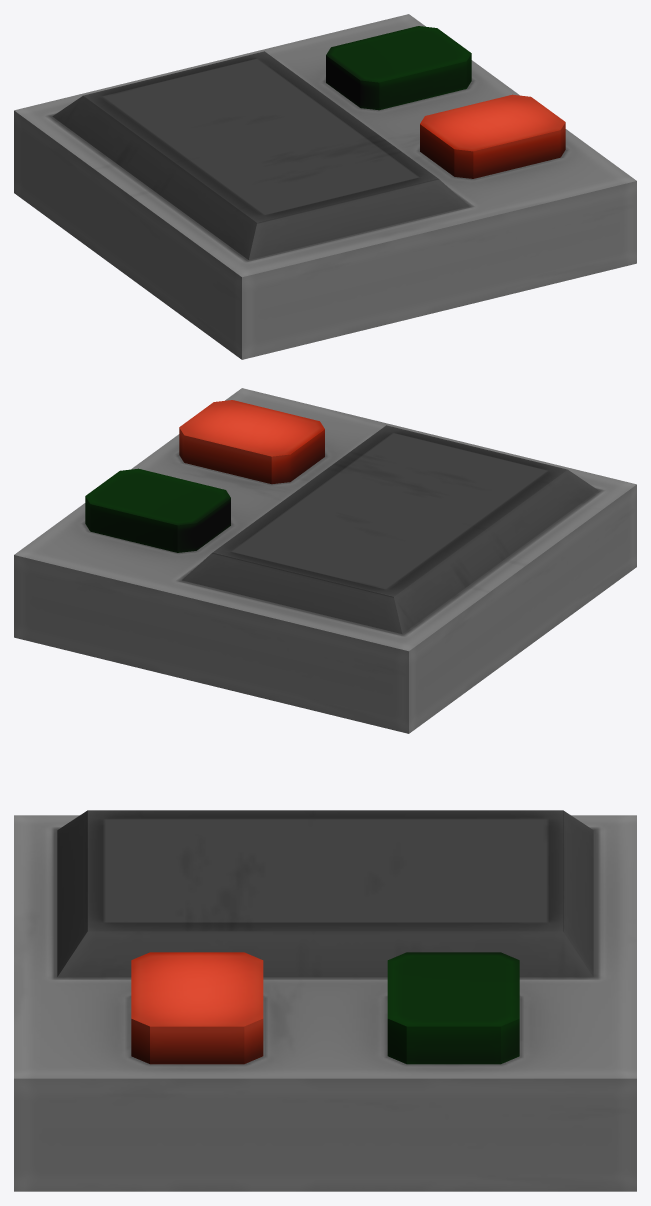
File: obj_interactive_switch_off.fbx
3 renders of one model, top to bottom at view 1: azimuth 30°, elevation 25°; view 2: azimuth 150°, elevation 25°; view 3: azimuth 270°, elevation 25°, orthographic. The views are drawn at different scales.
Parts seen in each view (by area): view 1: obj_interactive_switch_off_lod0; view 2: obj_interactive_switch_off_lod0; view 3: obj_interactive_switch_off_lod0.
Boxes of the visible parts, <box> form: obj_interactive_switch_off_lod0: <box>14,14,636,359</box>; obj_interactive_switch_off_lod0: <box>14,388,636,733</box>; obj_interactive_switch_off_lod0: <box>14,810,636,1191</box>.
Bounding box in the file's own units: 1 × 0.359 × 1.
1 material, 1 textured.
